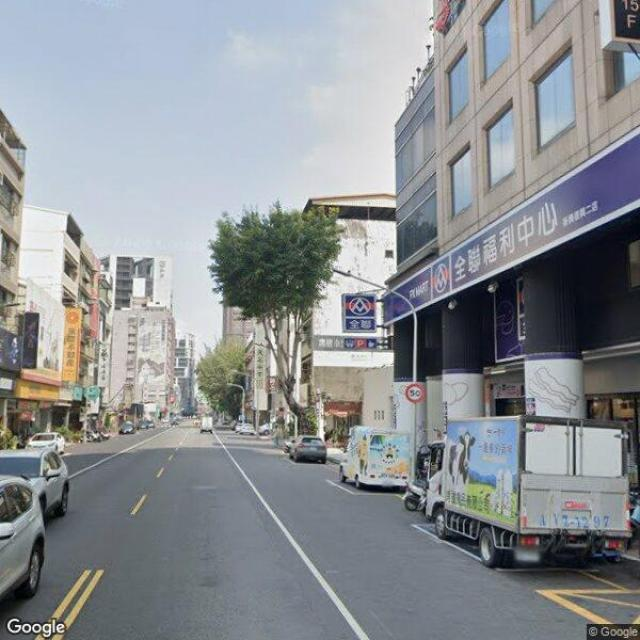Legalparking: (272, 406, 640, 578)
illegalparking: (0, 437, 90, 640)
